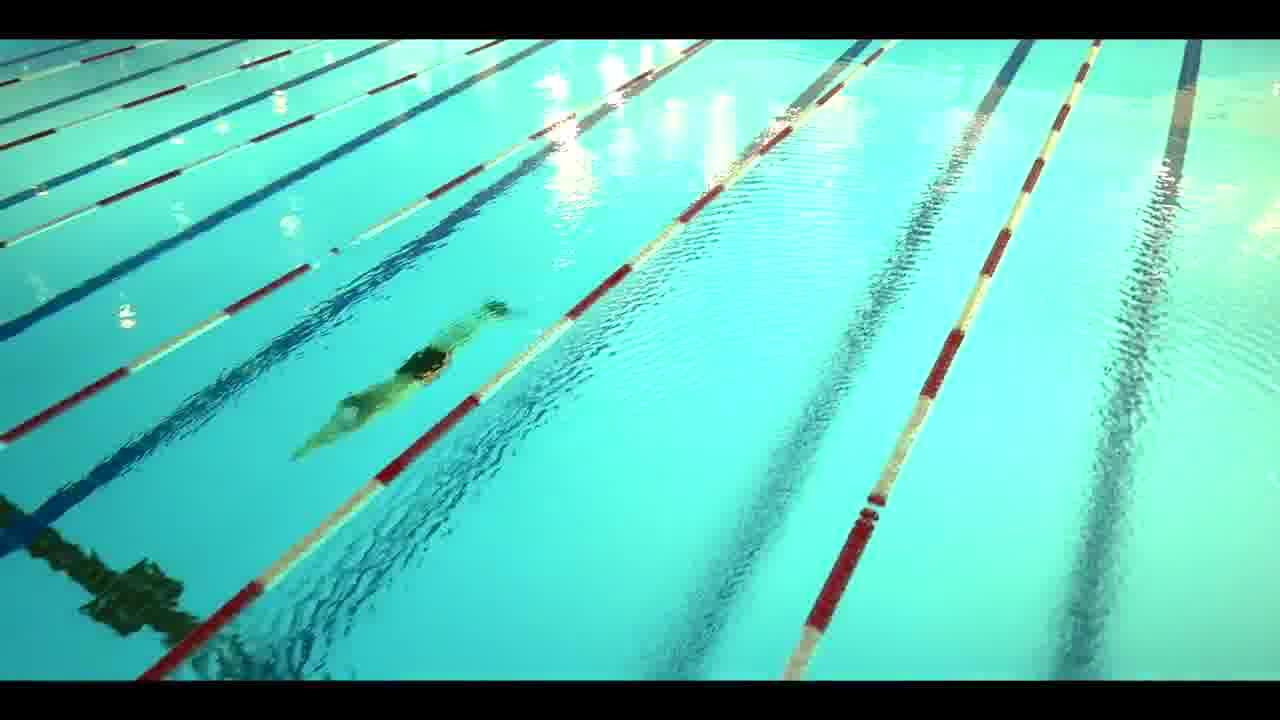human: (287, 305, 510, 470)
